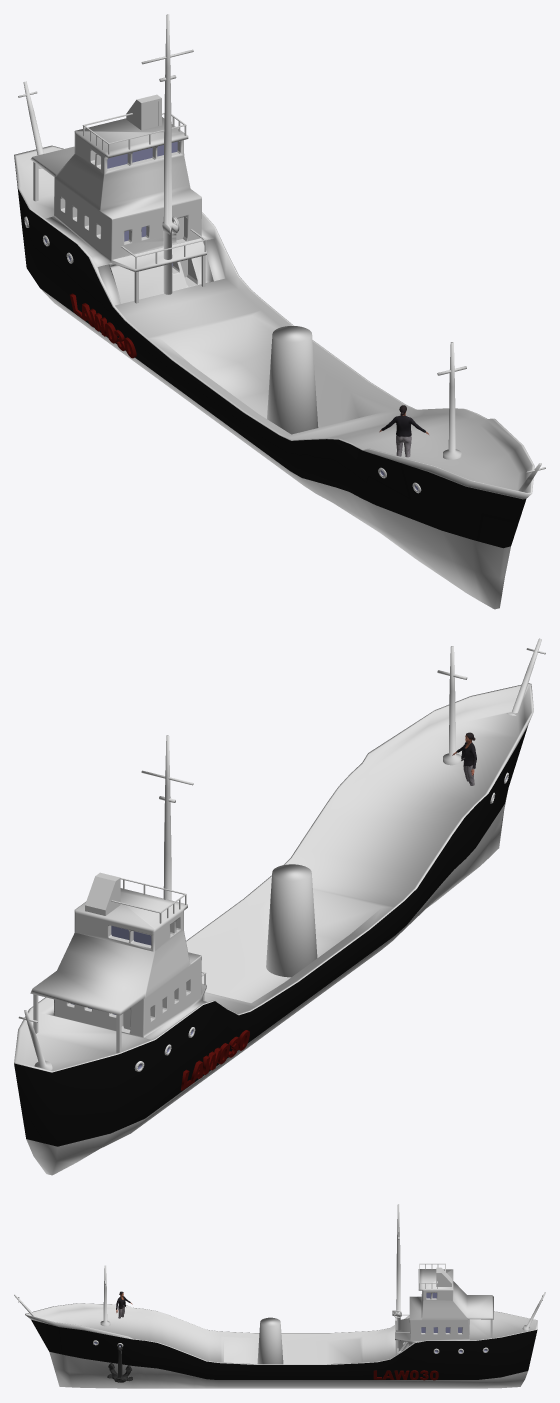
File: D4_Ship3.glb
3 renders of one model, top to bottom at view 1: azimuth 30°, elevation 25°; view 2: azimuth 150°, elevation 25°; view 3: azimuth 270°, elevation 25°, orthographic. The views are drawn at different scales.
Parts seen in each view (by area): view 1: Object_6, Object_2, Cylinder, Text.001, Object_6.001, Object_4; view 2: Object_6, Object_2, Cylinder, Text.001; view 3: Object_6, Object_2, Cylinder, Text, osnova_low.
Part boxes in pixels (x1,y1,x2,y2): Object_6: [14, 14, 545, 609]; Object_2: [15, 164, 526, 548]; Cylinder: [267, 326, 318, 434]; Text.001: [70, 293, 136, 358]; Object_6.001: [379, 405, 428, 457]; Object_4: [26, 141, 418, 490]; Object_6: [14, 638, 545, 1175]; Object_2: [14, 726, 527, 1146]; Cylinder: [266, 864, 317, 977]; Text.001: [181, 1030, 249, 1090]; Object_6: [14, 1204, 545, 1388]; Object_2: [31, 1319, 537, 1379]; Cylinder: [257, 1317, 283, 1364]; Text: [373, 1370, 438, 1380]; osnova_low: [107, 1362, 132, 1382].
Size of the model in its own units: 6.51 by 16.34 by 43.39.
7 materials, 2 textured.
